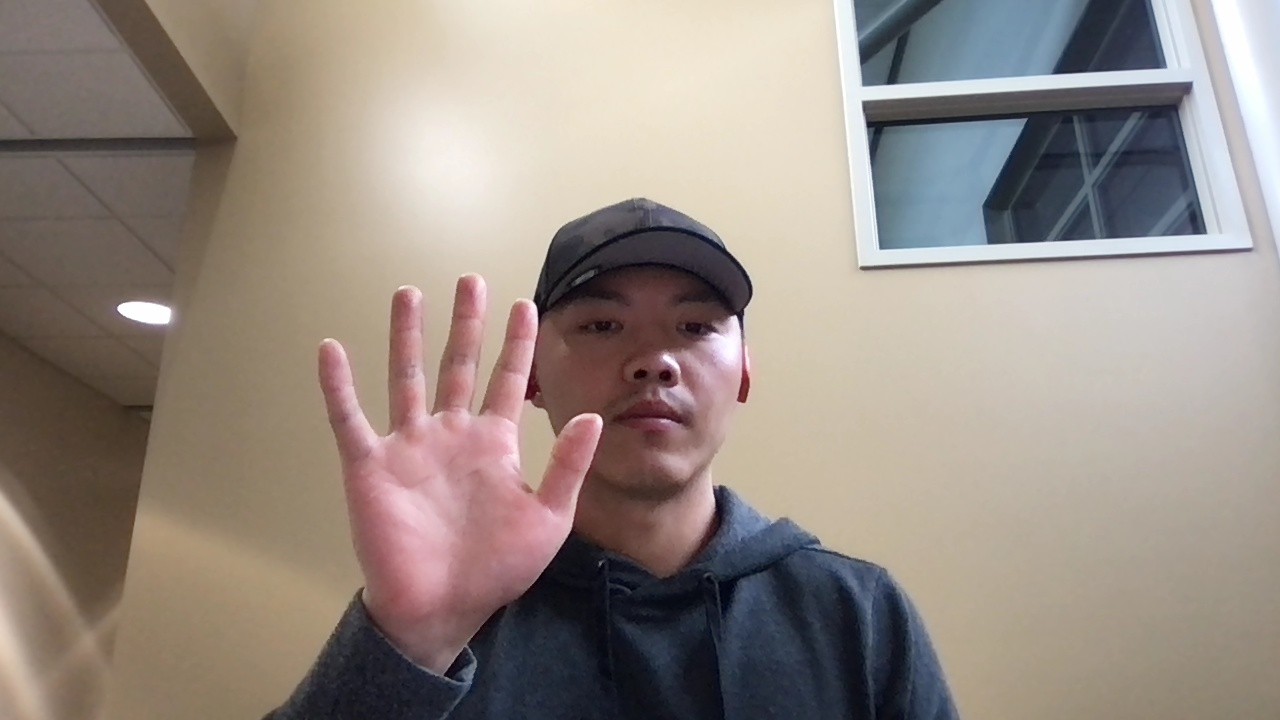Hello: (315, 271, 607, 617)
